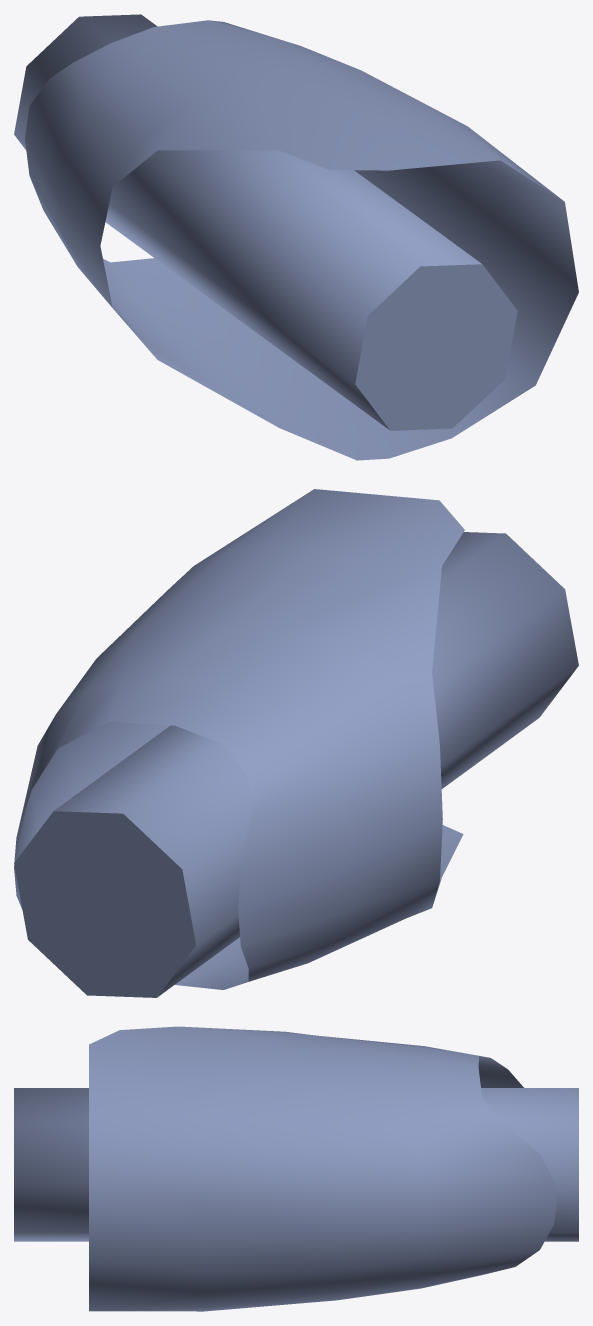
Rendered from icub_simple_collision_r_forearm.dae.
The picture shows the model from 3 angles, top to bottom: view 1: azimuth 30°, elevation 25°; view 2: azimuth 150°, elevation 25°; view 3: azimuth 270°, elevation 25°; orthographic projection. The views are drawn at different scales.
Parts seen in each view (by area): view 1: r_forearm_mesh; view 2: r_forearm_mesh; view 3: r_forearm_mesh.
Boxes of the visible parts, bbox=[...] form: r_forearm_mesh: bbox=[14, 14, 578, 460]; r_forearm_mesh: bbox=[14, 489, 578, 997]; r_forearm_mesh: bbox=[14, 1026, 578, 1311].
Bounding box in the file's own units: 0.0795 × 0.0652 × 0.14.
